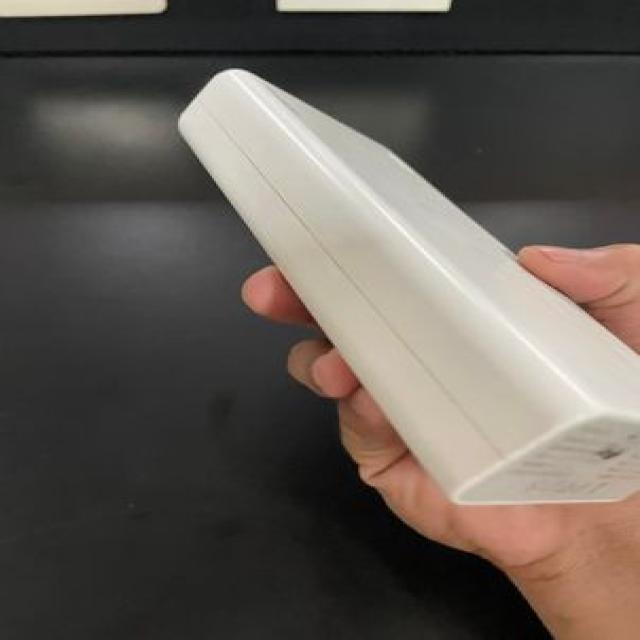portable-charger: (101, 57, 640, 534)
